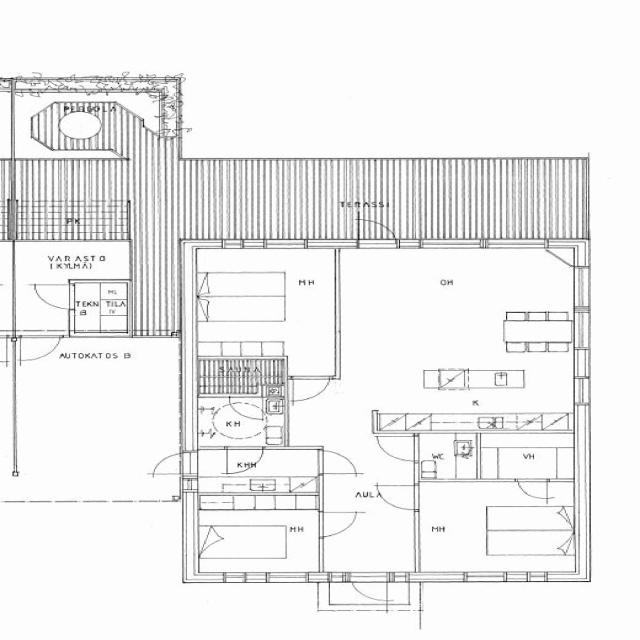door: (192, 496, 322, 580), (196, 448, 324, 496), (373, 433, 420, 464), (372, 482, 421, 511), (315, 508, 360, 539), (16, 334, 62, 364), (314, 447, 360, 477), (352, 219, 398, 249), (288, 374, 333, 404), (30, 282, 74, 312), (348, 574, 388, 604), (146, 450, 187, 479), (224, 445, 263, 475), (514, 478, 552, 502), (262, 234, 312, 252)
window: (212, 570, 310, 586), (458, 569, 549, 586), (566, 265, 594, 312), (480, 236, 548, 254), (413, 236, 486, 252), (568, 346, 594, 382), (568, 373, 593, 408), (262, 236, 312, 252)
zone: (194, 245, 341, 362), (414, 480, 576, 577), (372, 364, 578, 431), (192, 496, 321, 582), (192, 446, 322, 496), (317, 510, 418, 574), (12, 240, 134, 282), (473, 432, 576, 481), (194, 394, 281, 447), (196, 357, 285, 397), (70, 281, 130, 334), (416, 434, 478, 482)
